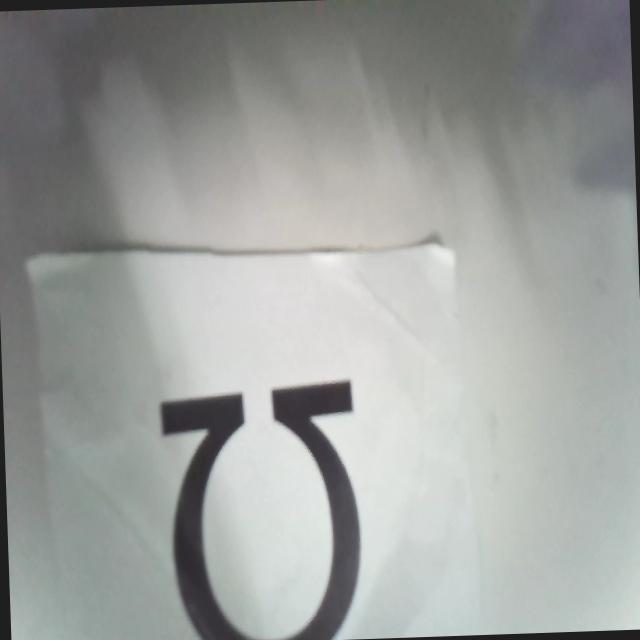OM: (158, 375, 371, 640)
